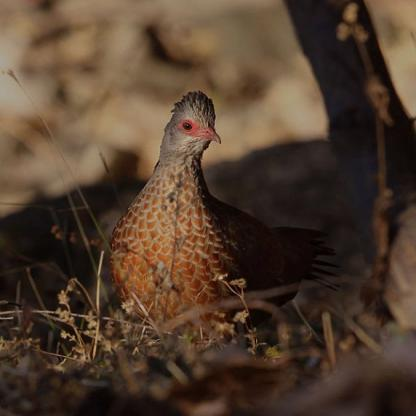Burung: (105, 90, 339, 349)
